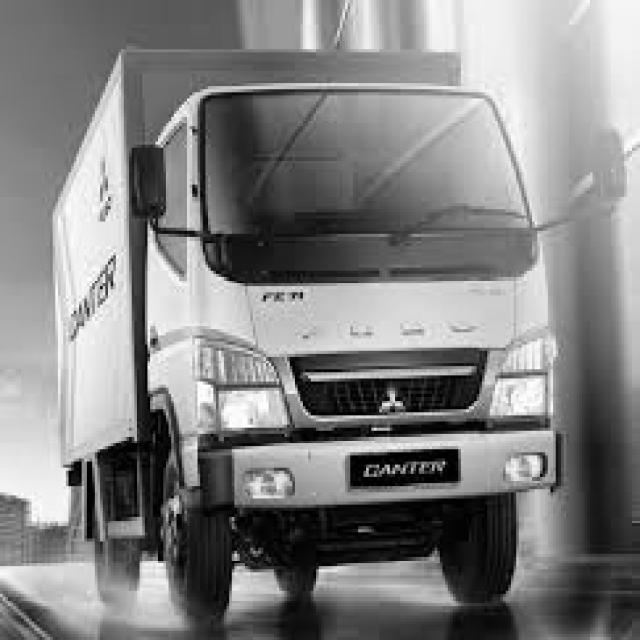truck: (104, 56, 640, 588)
